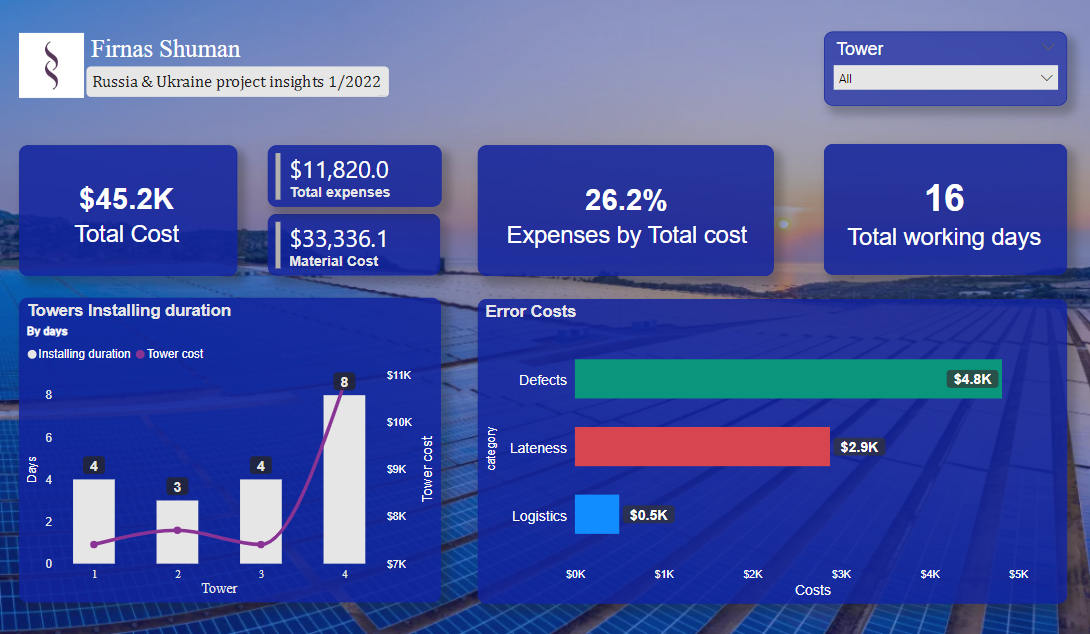

Layout of this report page (visuals, bound fields, positions):
{"tool":"powerbi","page":{"name":"Page 1","canvas":[1345,720],"ordinal":0},"visuals":[{"type":"card","title":"Project Cost","fields":{"Values":["towers summary.total_tower_cost plus total expenses"]},"box":[79.5,165,246.9,147.9],"z":0},{"type":"multiRowCard","fields":{"Values":["towers summary.total_tower_cost"]},"box":[360.6,243.3,195.6,69.7],"z":1000},{"type":"multiRowCard","fields":{"Values":["daily summary.total expenses - Copy"]},"box":[360.6,165,196.8,69.7],"z":2000},{"type":"lineClusteredColumnComboChart","title":"Towers Installing duration","fields":{"Category":["towers summary.tower_number"],"Y":["towers summary.duration_in_days"],"Y2":["towers summary.total_tower_cost"]},"box":[79.5,338.6,478,344.7],"z":3000},{"type":"card","title":"Expenses","fields":{"Values":["towers summary.% expenses"]},"box":[599,165,334.9,147.9],"z":4000},{"type":"card","title":"Project Cost","fields":{"Values":["daily summary.working days"]},"box":[990.7,164.6,275.4,147.6],"z":5000},{"type":"image","box":[79.5,36.5,73.3,75.8],"z":6000},{"type":"textbox","title":"Firnas Shuman","box":[155.2,41.4,193.1,36.7],"z":8000},{"type":"textbox","title":"Russia & Ukraine project insights 1/2022","box":[155.2,77,342.3,34.2],"z":9000},{"type":"slicer","fields":{"Values":["Towers.towerId"]},"box":[990.7,36.9,275.4,83.7],"z":10000},{"type":"clusteredBarChart","title":"Error Costs","fields":{"Category":["daily reports.category"],"Y":["daily reports.error_price"]},"box":[599,339.2,667.1,344.9],"z":11000}]}

Visuals, with their boxes on the page's 1345x720 design canvas (x1, y1, x2, y2). These are canvas units, not pixel positions in the 1090x634 screenshot, which may show the page scaled, cropped or inside an application window:
"Project Cost" card: <region>80, 165, 326, 313</region>
multiRowCard - towers summary.total_tower_cost: <region>361, 243, 556, 313</region>
multiRowCard - daily summary.total expenses - Copy: <region>361, 165, 557, 235</region>
"Towers Installing duration" lineClusteredColumnComboChart: <region>80, 339, 558, 683</region>
"Expenses" card: <region>599, 165, 934, 313</region>
"Project Cost" card: <region>991, 165, 1266, 312</region>
image: <region>80, 36, 153, 112</region>
"Firnas Shuman" textbox: <region>155, 41, 348, 78</region>
"Russia & Ukraine project insights 1/2022" textbox: <region>155, 77, 498, 111</region>
slicer - Towers.towerId: <region>991, 37, 1266, 121</region>
"Error Costs" clusteredBarChart: <region>599, 339, 1266, 684</region>
